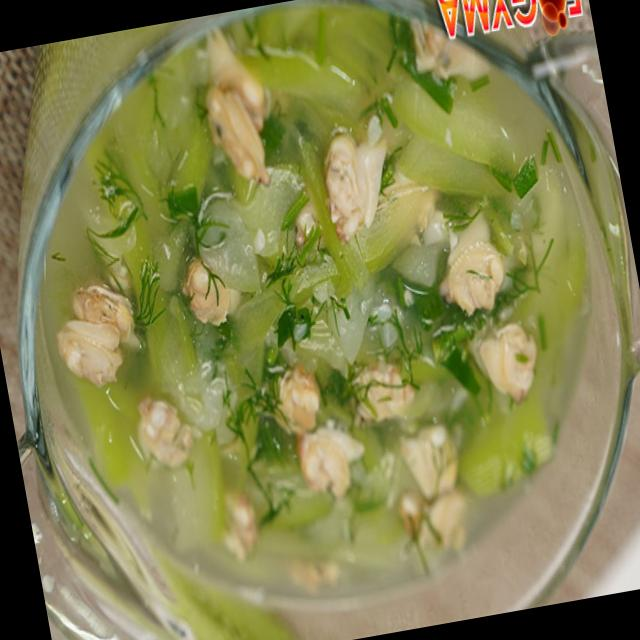canh bau: (46, 6, 585, 591)
